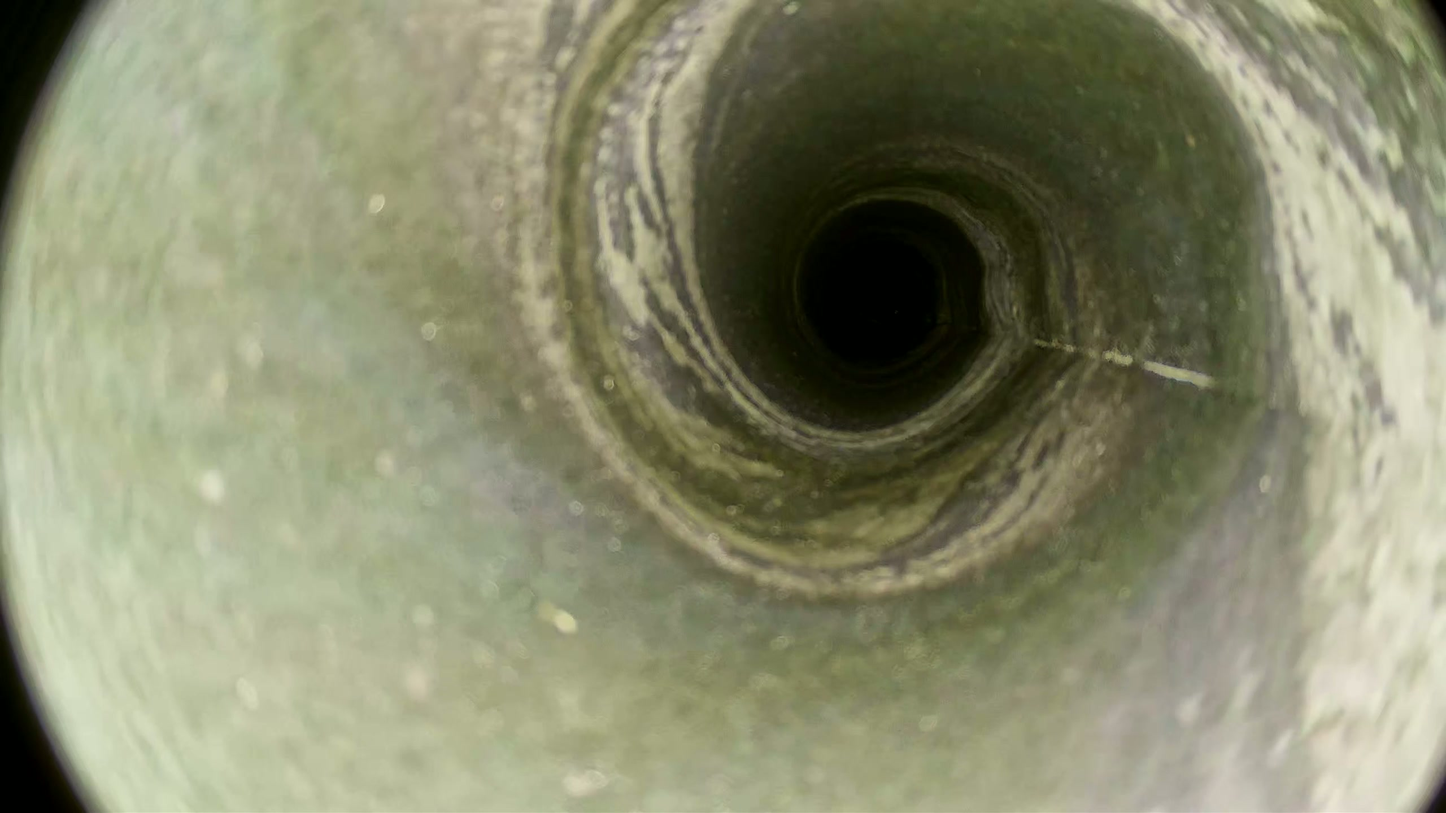hole: (825, 242, 934, 350)
